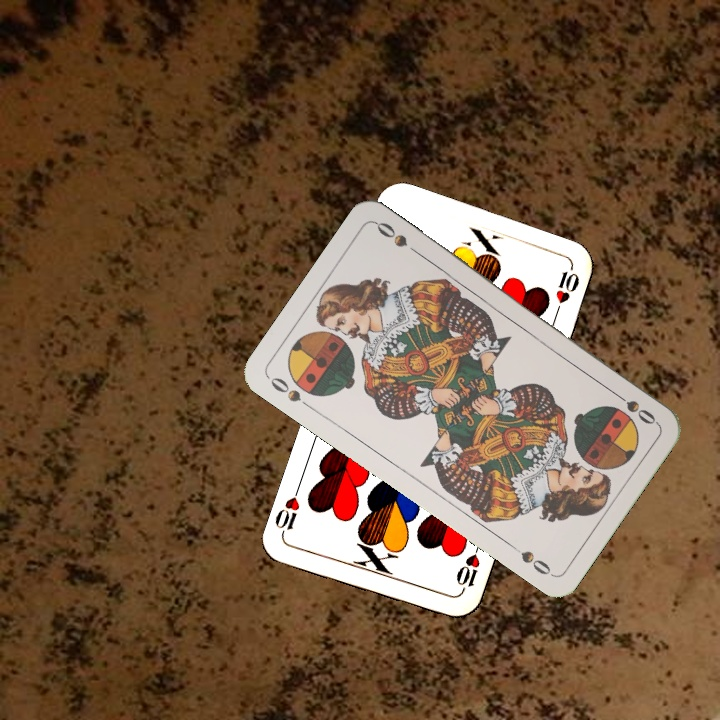H10: (452, 540, 483, 597)
SO: (608, 387, 660, 428), (266, 373, 316, 413)
